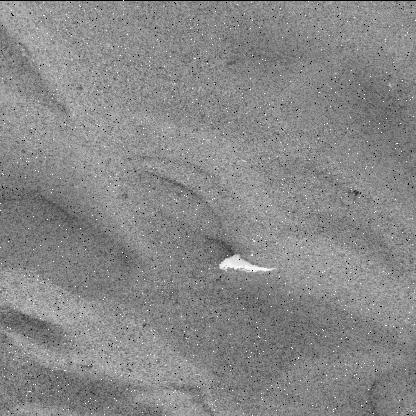foam: (219, 253, 276, 271)
